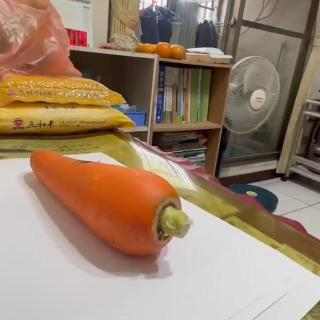carrot: (30, 148, 194, 258)
